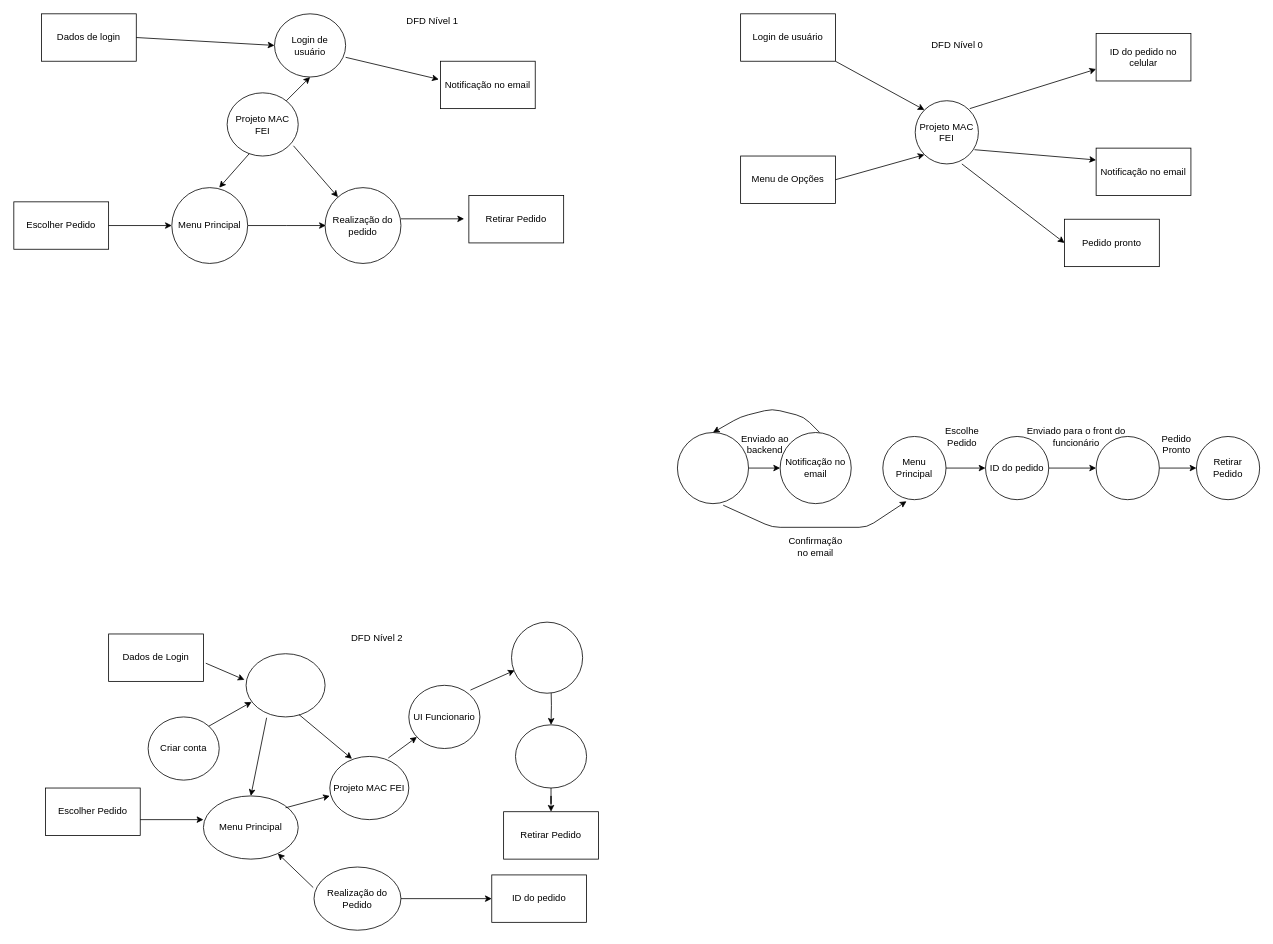
Image size: 1273x944. Some labels were removed from this diagram. Each missing label, with the centre of its shape:
Alerta de navegador: pixel 551 756
Alerta de notificação: pixel 1127 468
Login Usuário: pixel 713 468
Preparação do Pedido: pixel 547 657
UI Usuário: pixel 285 685
